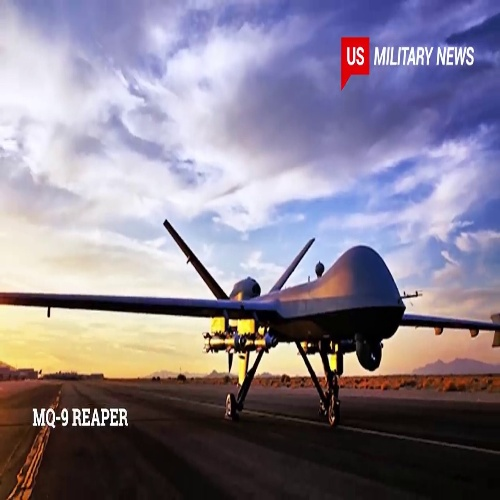uav2: (2, 215, 499, 426)
